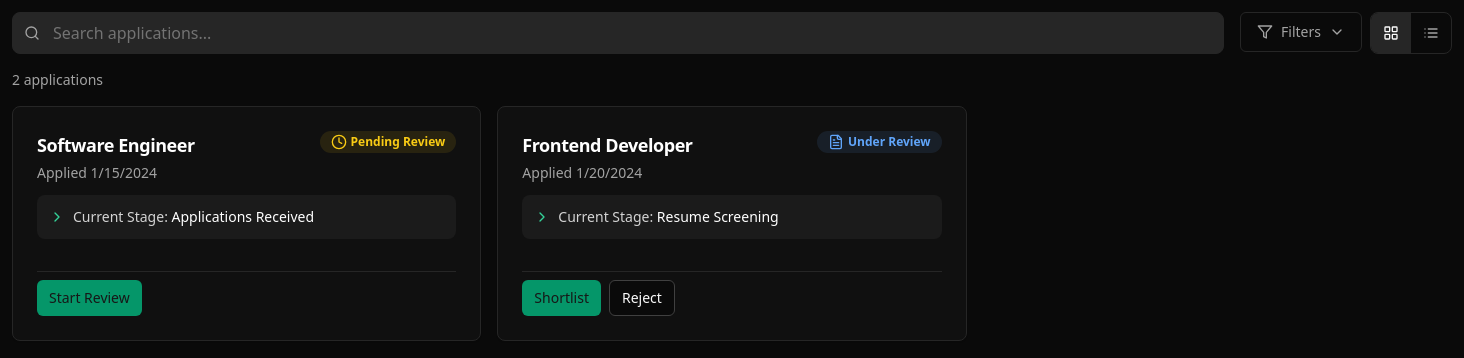
ApplicationList › filters applications by search query
This screenshot has width=1464, height=358.
In the field with placeholder "Search applications...": (618, 33) [12,12,1224,54], type "Frontend"
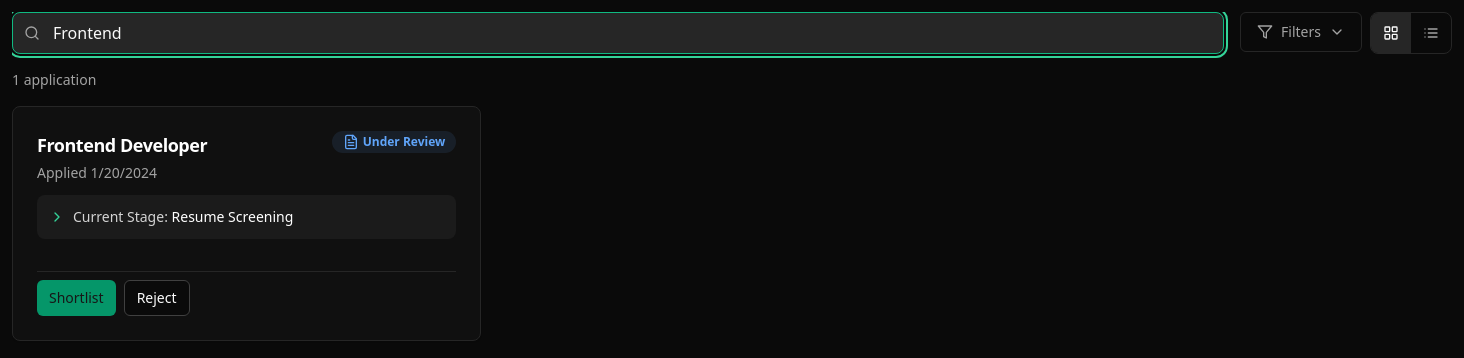
Expected: the heading "Frontend Developer" is shown, [37,133,207,157]
Expected: the heading "Software Engineer" is gone
